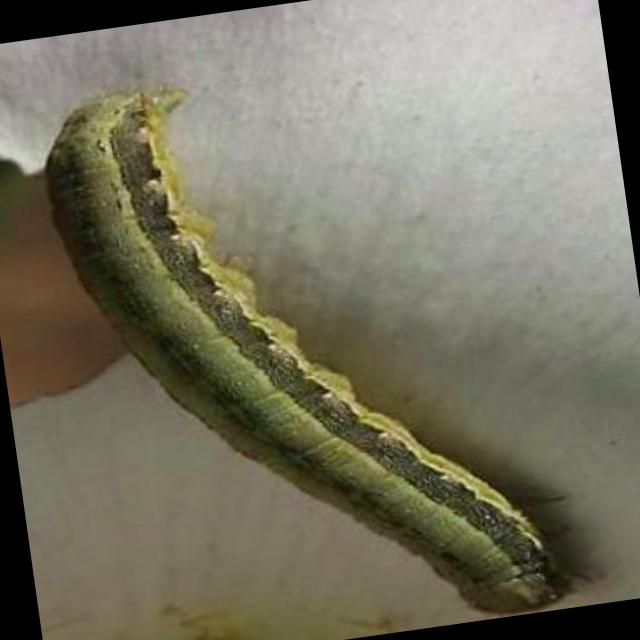Beet armyworm: (4, 11, 590, 640)
